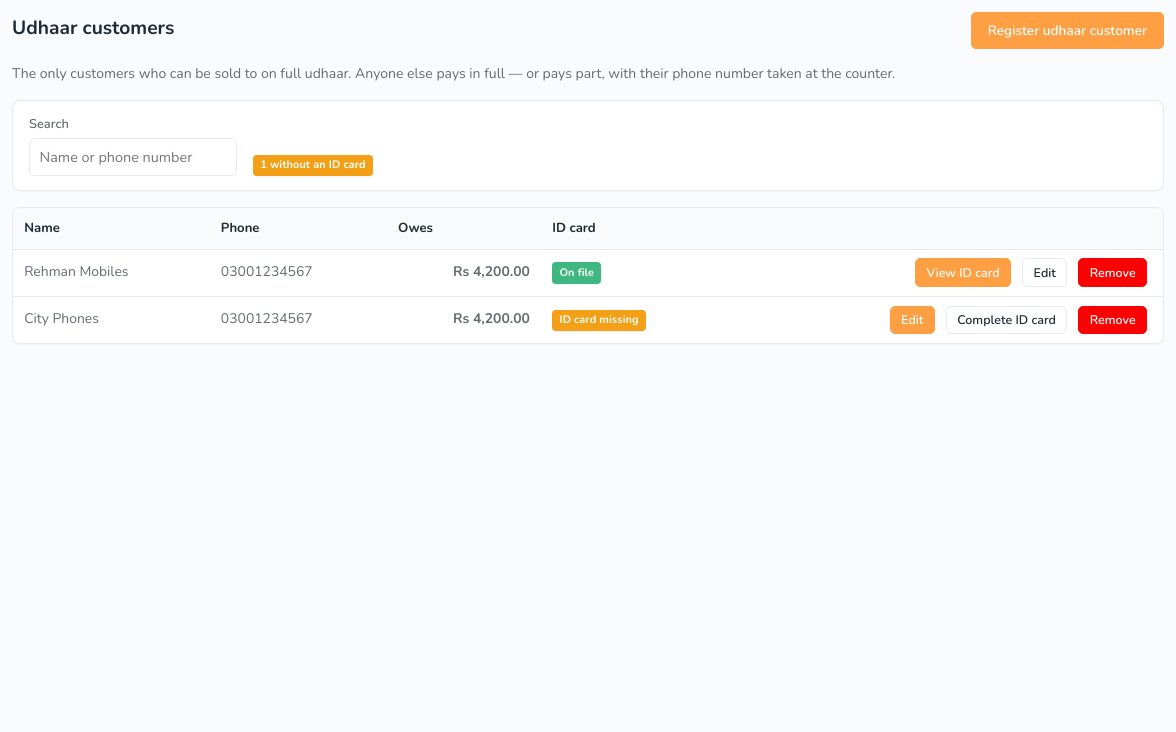
Test case: editing a registered udhaar customer › opens with their details filled in and saves a corrected name and phone, keeping the card
This screenshot has width=1176, height=732.
Click the button with aria-label "Edit Rehman Mobiles": (1045, 273) [1022,258,1067,287]
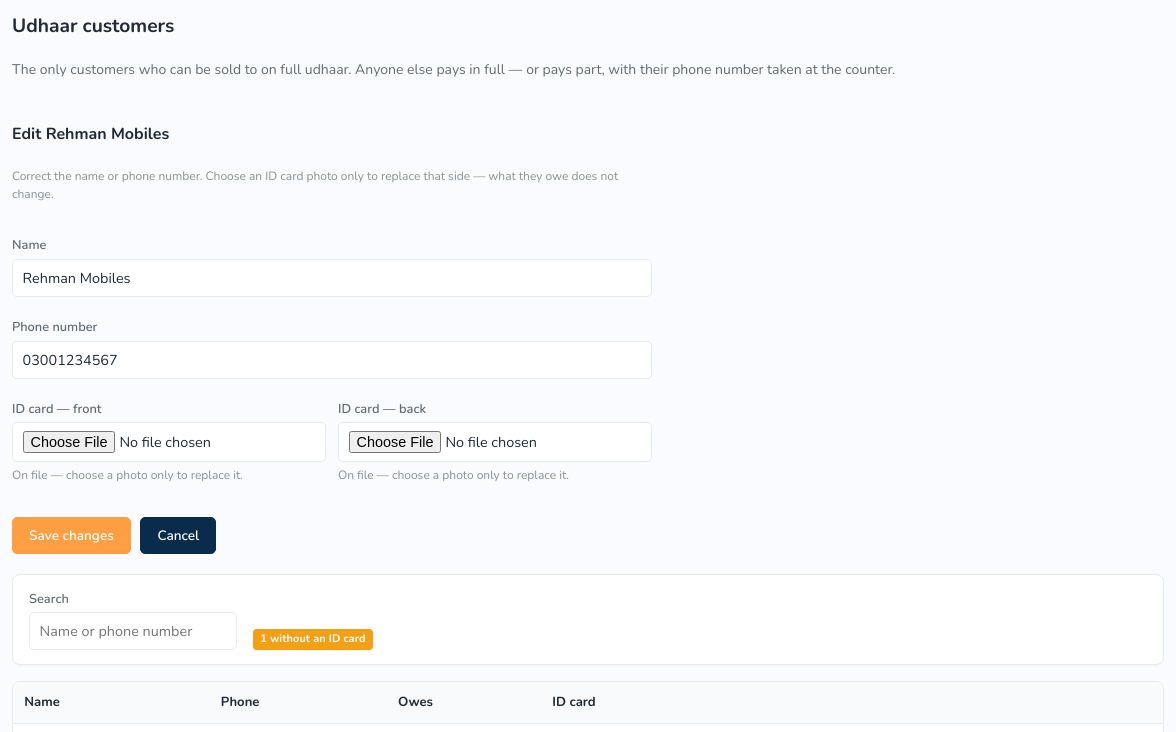
Now the heading "Edit Rehman Mobiles" is shown, box [12,123,169,145]
Now the field labelled "Name" holds "Rehman Mobiles"
Now the field labelled "Phone number" holds "03001234567", box [12,340,652,378]
Replace the text in the field labelled "Name" with "Rehman Mobiles & Co": (332, 278) [12,258,652,296]
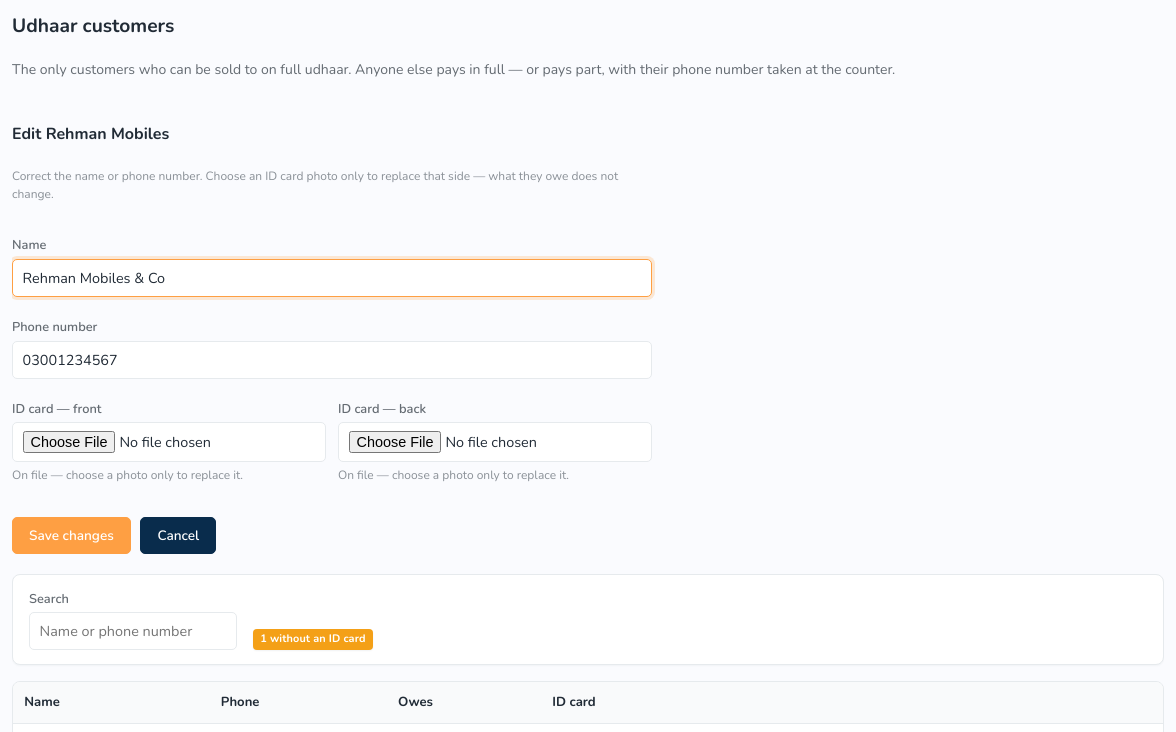
Replace the text in the field labelled "Phone number" with "03219876543": (332, 360) [12,340,652,378]
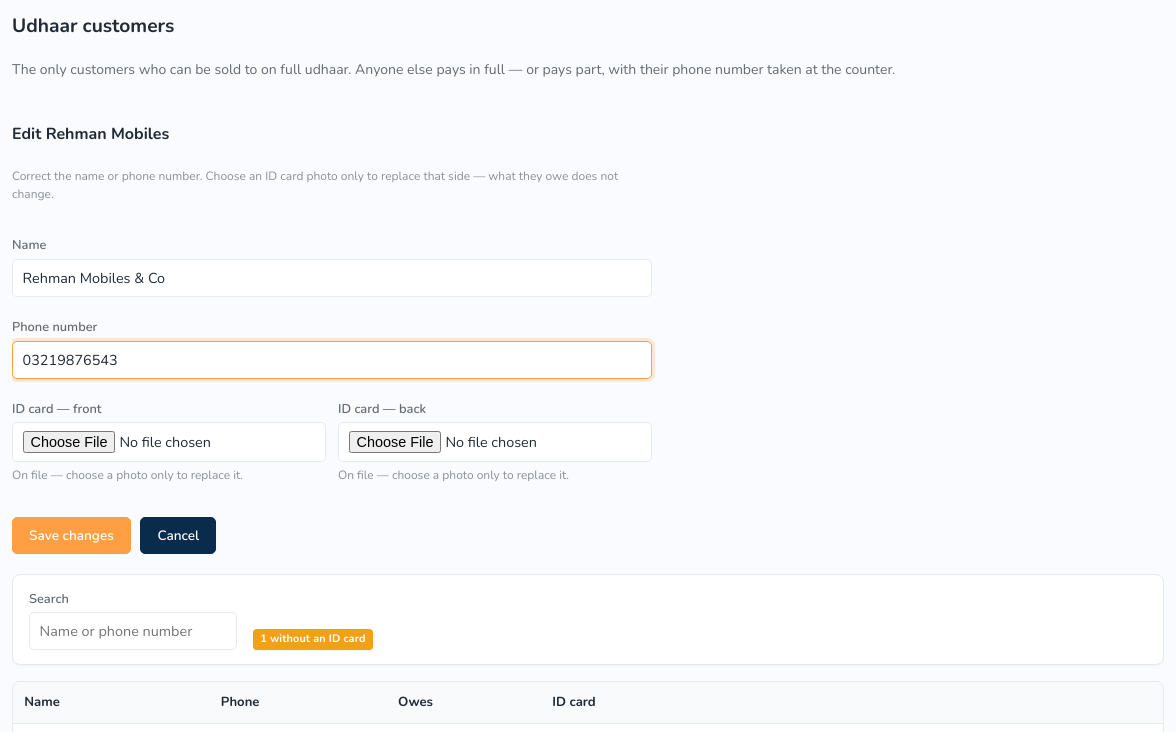
Click the button "Save changes": (71, 536) [12,517,131,554]
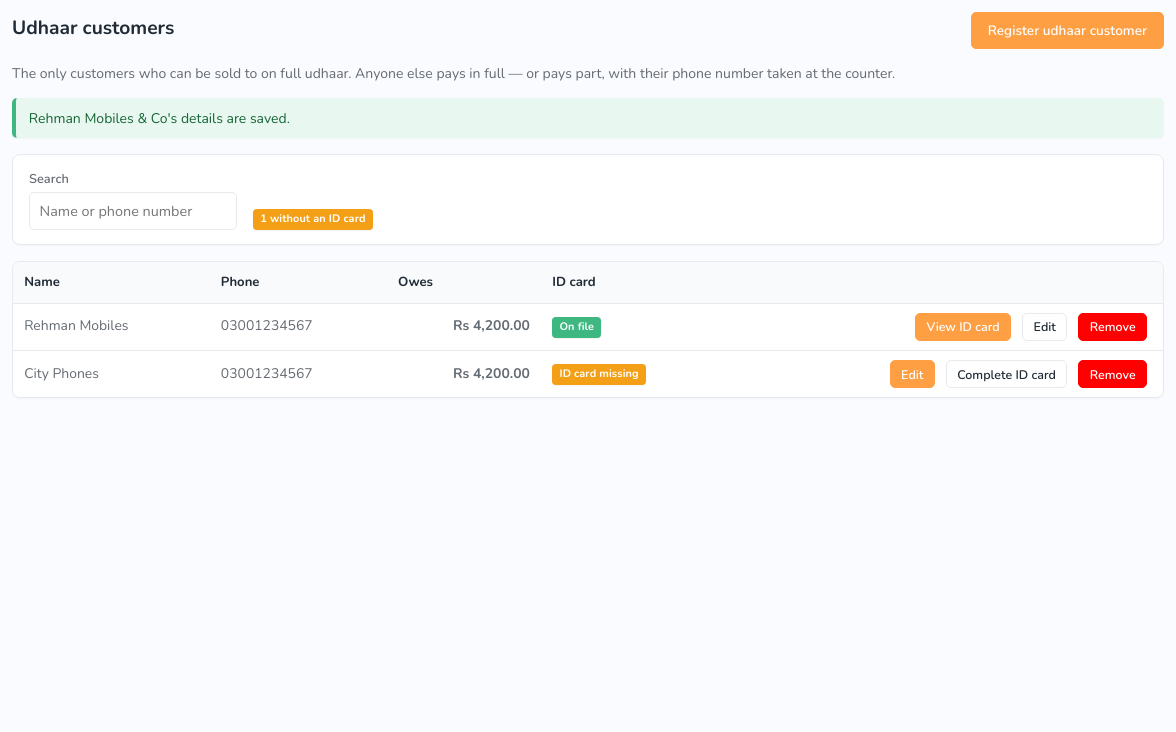
Now the text "Rehman Mobiles & Co's details are saved." is shown, box [12,98,1164,138]
